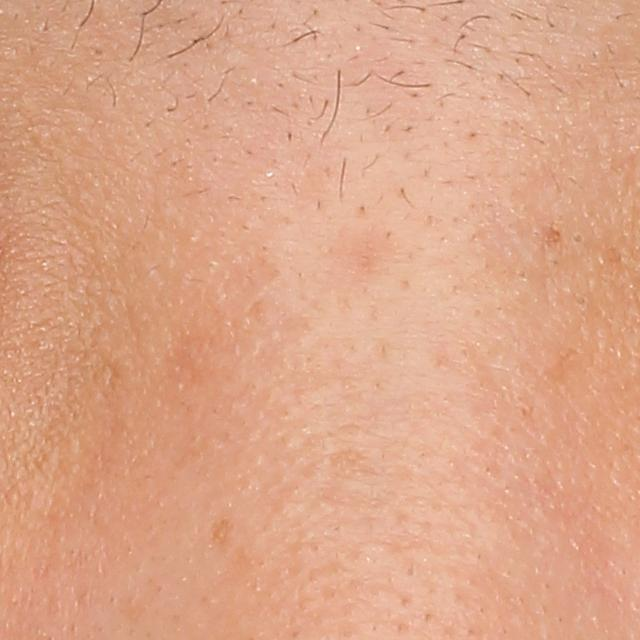comedo: (566, 227, 590, 252)
melasma: (204, 510, 235, 550)
